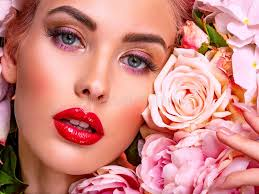white_female: (33, 10, 159, 157)
